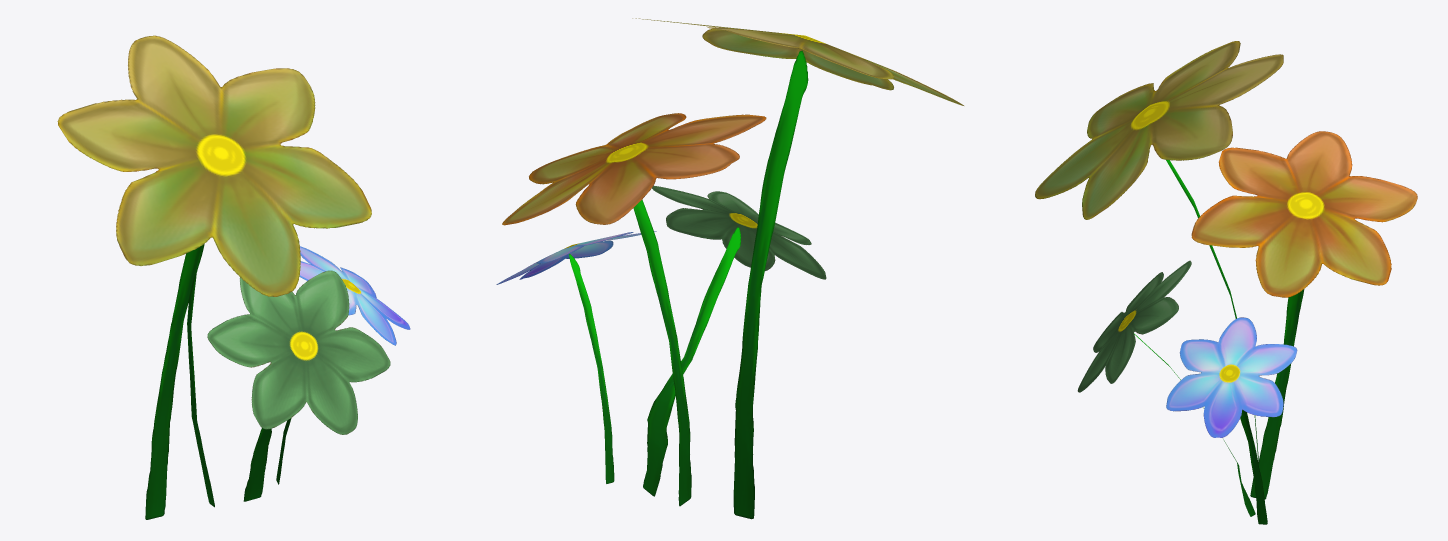
File: 27_Florres_Triple.fbx
3 renders of one model, left to right at view 1: azimuth 30°, elevation 25°; view 2: azimuth 150°, elevation 25°; view 3: azimuth 270°, elevation 25°, orthographic. The views are drawn at different scales.
Parts seen in each view (by area): view 1: 27_Florres_Triple; view 2: 27_Florres_Triple; view 3: 27_Florres_Triple.
Boxes of the visible parts, <box> form: 27_Florres_Triple: <box>57,35,410,519</box>; 27_Florres_Triple: <box>496,18,963,519</box>; 27_Florres_Triple: <box>1035,41,1417,524</box>.
Size of the model in its own units: 31.65 by 39.22 by 33.54.
